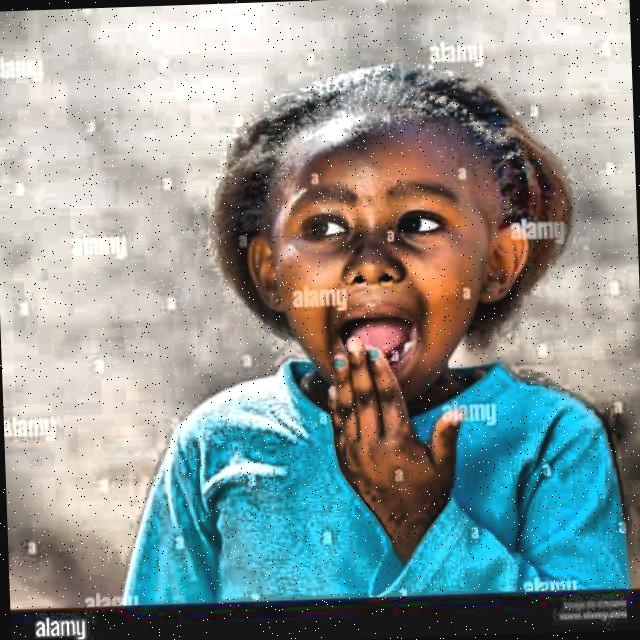surprised: (188, 52, 588, 418)
